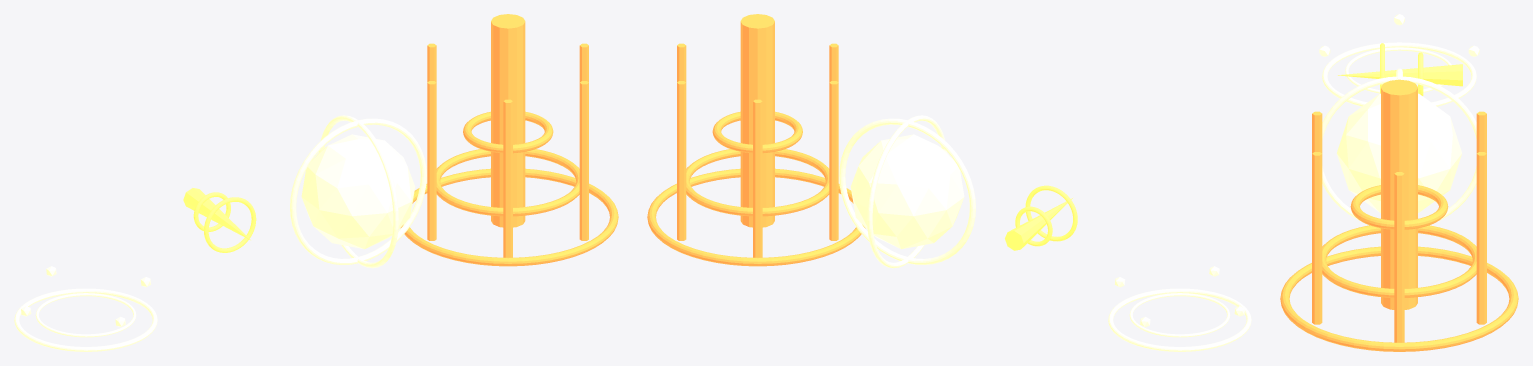
Rendered from christy_skills_vfx.glb.
The picture shows the model from 3 angles, left to right: view 1: azimuth 30°, elevation 25°; view 2: azimuth 150°, elevation 25°; view 3: azimuth 270°, elevation 25°; orthographic projection. The views are drawn at different scales.
Parts seen in each view (by area): view 1: VFX_Ultimate, VFX_Skill_2, VFX_Passive, VFX_Skill_1; view 2: VFX_Ultimate, VFX_Skill_2, VFX_Passive, VFX_Skill_1; view 3: VFX_Ultimate, VFX_Skill_2, VFX_Passive, VFX_Skill_1.
Part boxes in pixels (bbox=[...]): VFX_Ultimate: bbox=[400, 14, 618, 266]; VFX_Skill_2: bbox=[290, 115, 426, 268]; VFX_Passive: bbox=[14, 266, 157, 351]; VFX_Skill_1: bbox=[183, 188, 256, 252]; VFX_Ultimate: bbox=[647, 14, 865, 266]; VFX_Skill_2: bbox=[839, 115, 975, 268]; VFX_Passive: bbox=[1108, 266, 1251, 351]; VFX_Skill_1: bbox=[1005, 185, 1077, 250]; VFX_Ultimate: bbox=[1280, 79, 1518, 351]; VFX_Skill_2: bbox=[1322, 68, 1476, 220]; VFX_Passive: bbox=[1319, 14, 1479, 106]; VFX_Skill_1: bbox=[1338, 43, 1462, 95].
Size of the model in its own units: 8.55 by 2.88 by 2.81.
